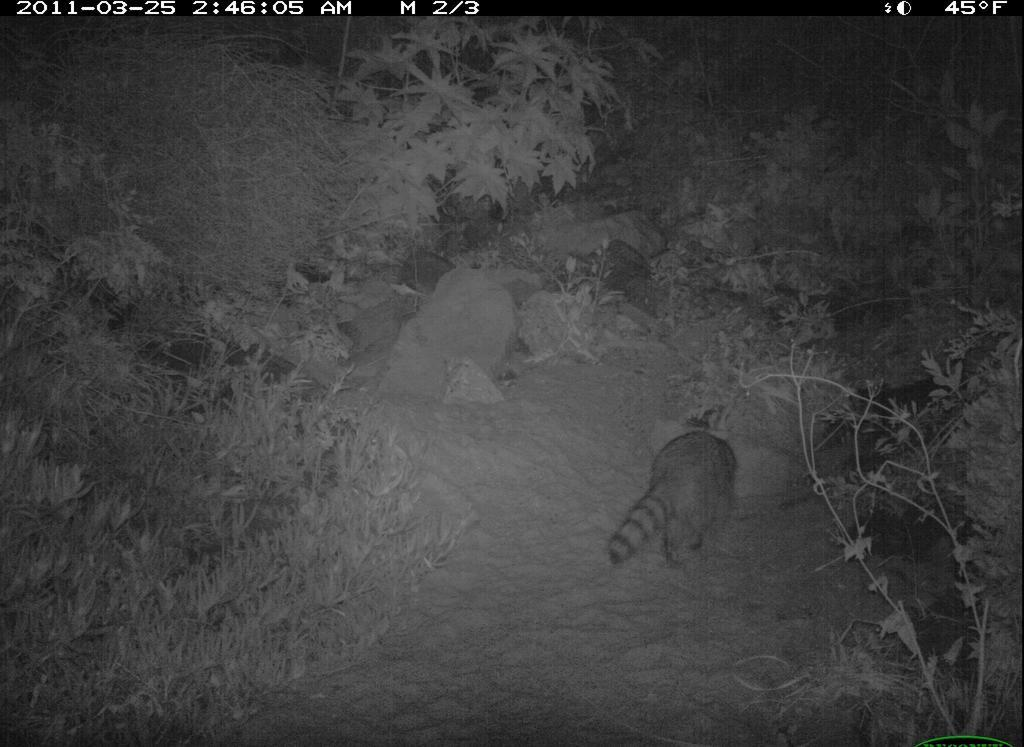raccoon: (601, 415, 753, 580)
